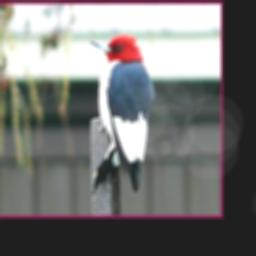Woodpecker: (88, 29, 156, 198)
